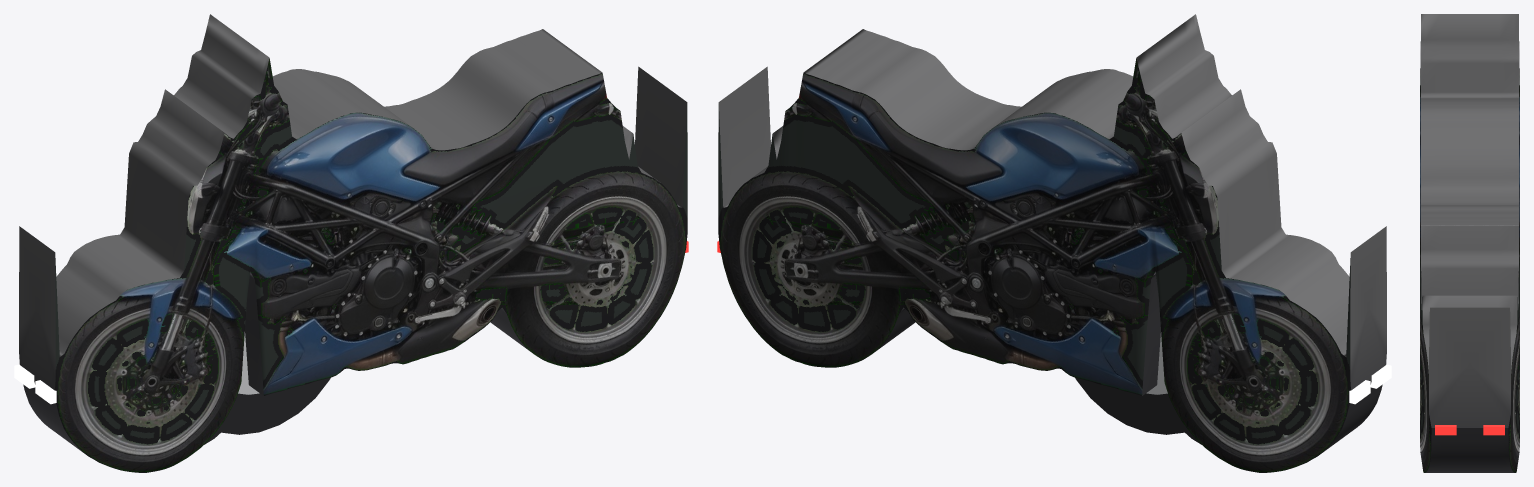
Rendered from motorcycle.glb.
3 renders of one model, left to right at view 1: azimuth 30°, elevation 25°; view 2: azimuth 150°, elevation 25°; view 3: azimuth 270°, elevation 25°, orthographic. The views are drawn at different scales.
Visible parts, largest first — view 1: motorcycle; view 2: motorcycle; view 3: motorcycle.
Boxes of the visible parts, x1,y1,x2,y2 form: motorcycle: [14, 14, 688, 472]; motorcycle: [717, 14, 1391, 472]; motorcycle: [1420, 14, 1519, 472].
Bounding box in the file's own units: 1.93 × 1.13 × 0.32.
8 materials, 2 textured.
